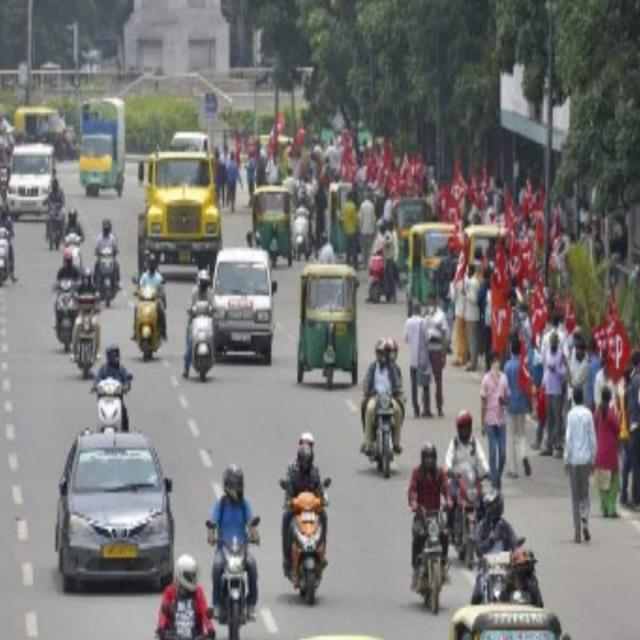autorickshaw: (298, 264, 359, 384)
car: (55, 429, 174, 592), (212, 248, 276, 364)
motorcycle: (206, 465, 259, 639), (280, 433, 331, 604), (408, 442, 451, 613), (361, 339, 402, 476), (134, 255, 166, 359)
truck: (138, 152, 222, 273)
